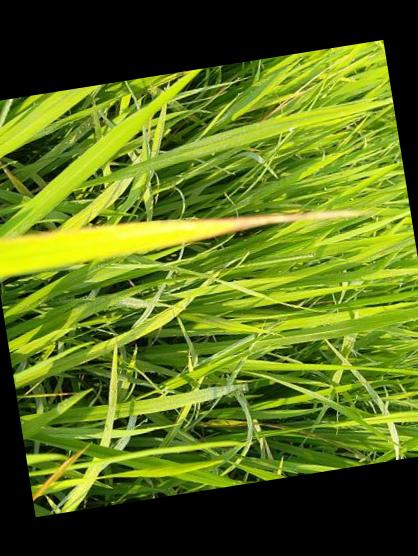Leaf Blight: (0, 207, 373, 277)
